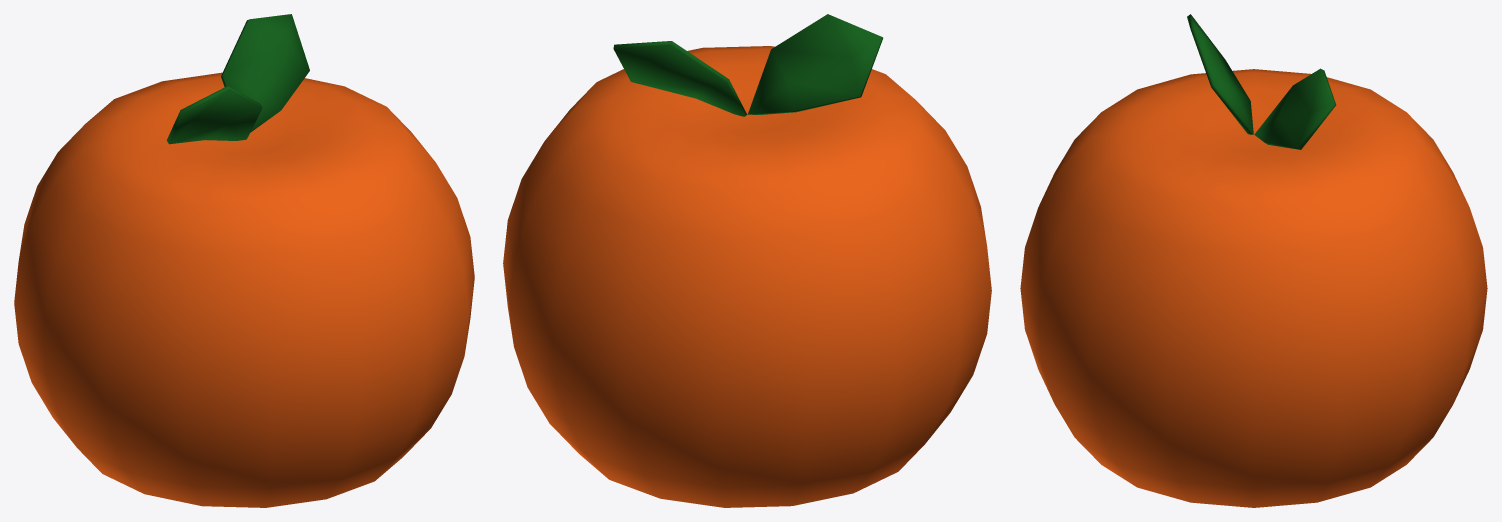
Rendered from SM_Orange.fbx.
3 views of the same model, side by side, from view 1: azimuth 30°, elevation 25°; view 2: azimuth 150°, elevation 25°; view 3: azimuth 270°, elevation 25° (orthographic). The views are drawn at different scales.
Parts seen in each view (by area): view 1: Orange_Fruit, Orange_Leave_00, Orange_Leave_01; view 2: Orange_Fruit, Orange_Leave_01, Orange_Leave_00; view 3: Orange_Fruit, Orange_Leave_00, Orange_Leave_01.
Part boxes in pixels (x1,y1,x2,y2): Orange_Fruit: [14, 72, 474, 507]; Orange_Leave_00: [221, 14, 309, 132]; Orange_Leave_01: [167, 86, 262, 144]; Orange_Fruit: [503, 46, 991, 507]; Orange_Leave_01: [748, 14, 883, 114]; Orange_Leave_00: [613, 41, 747, 116]; Orange_Fruit: [1020, 69, 1487, 507]; Orange_Leave_00: [1254, 68, 1336, 149]; Orange_Leave_01: [1187, 14, 1253, 134].
Size of the model in its own units: 98.35 by 92.9 by 98.35.
